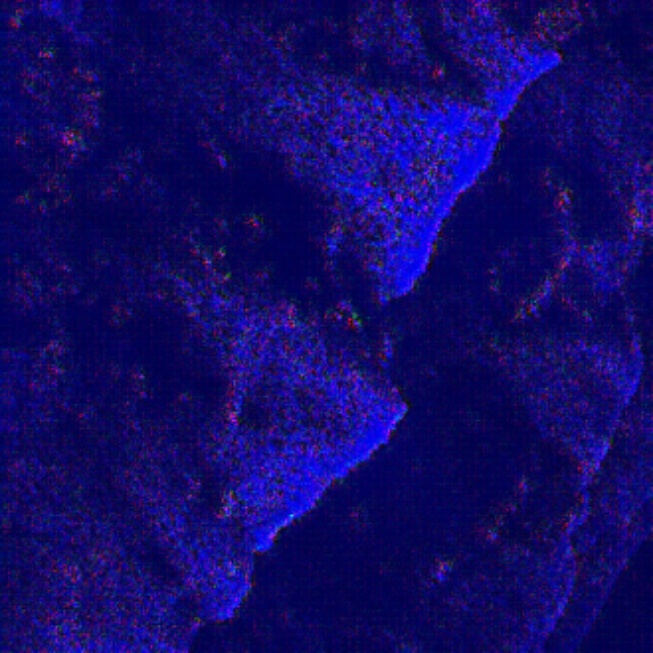rip_current: (184, 154, 528, 493)
